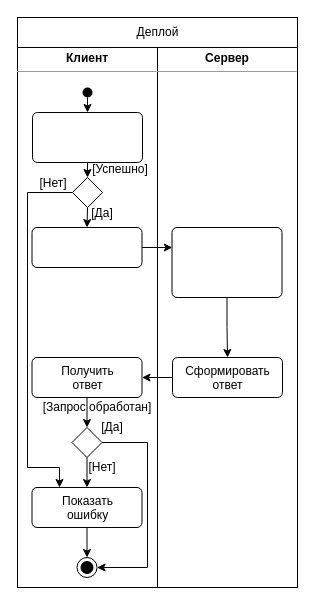
This 315x605 diagram has some shape labels left out. Here are the shapes that lost their labels. From the top down, the centre of each, then its label:
pixel 87 137: Архивировать рабочую директорию
pixel 86 247: Отправить запрос
pixel 226 262: Обработать запрос, распаковать данные
